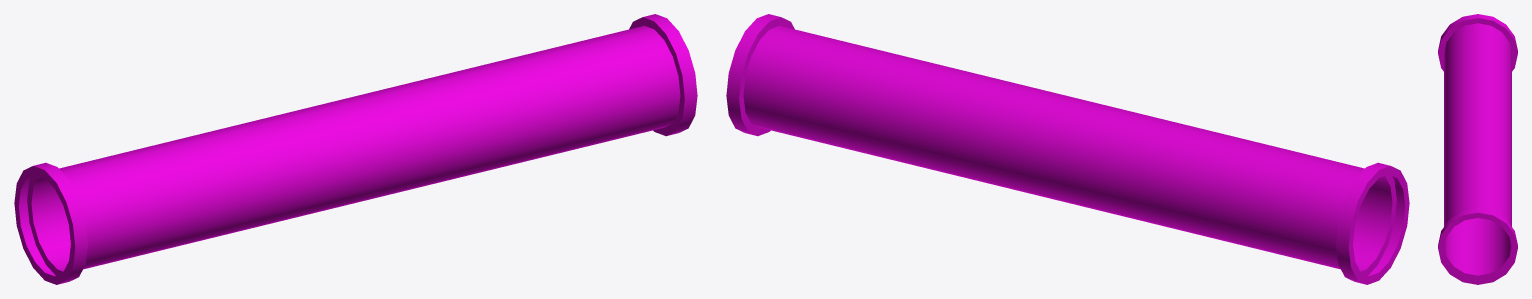
Rendered from SM_Pipe.fbx.
3 renders of one model, left to right at view 1: azimuth 30°, elevation 25°; view 2: azimuth 150°, elevation 25°; view 3: azimuth 270°, elevation 25°, orthographic. The views are drawn at different scales.
Parts seen in each view (by area): view 1: pCylinder89; view 2: pCylinder89; view 3: pCylinder89.
Part boxes in pixels (<box>): pCylinder89: <box>14,14,697,284</box>; pCylinder89: <box>726,14,1409,284</box>; pCylinder89: <box>1438,14,1517,284</box>.
Size of the model in its own units: 1675 by 284 by 284.
